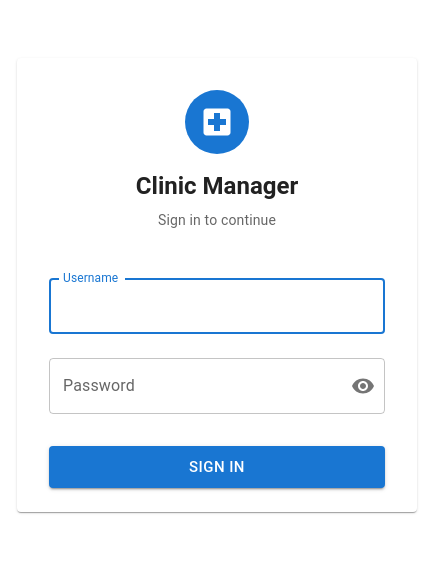
Login Component › Form Validation › should show error when username is empty
In the password field labelled "Password": (192, 386) [49,358,335,414], type "testpass"
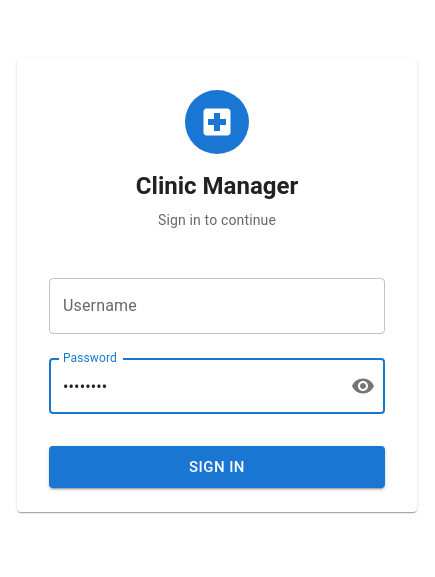
Click the button "Sign In": (217, 467) [49,446,385,488]
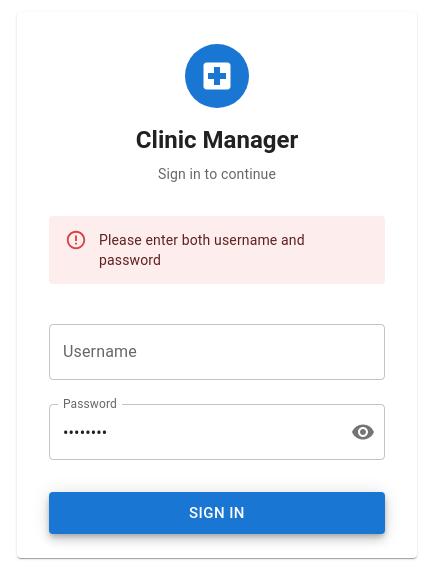
Expected: the text "Please enter both username and password" is shown, [99,232,305,268]
